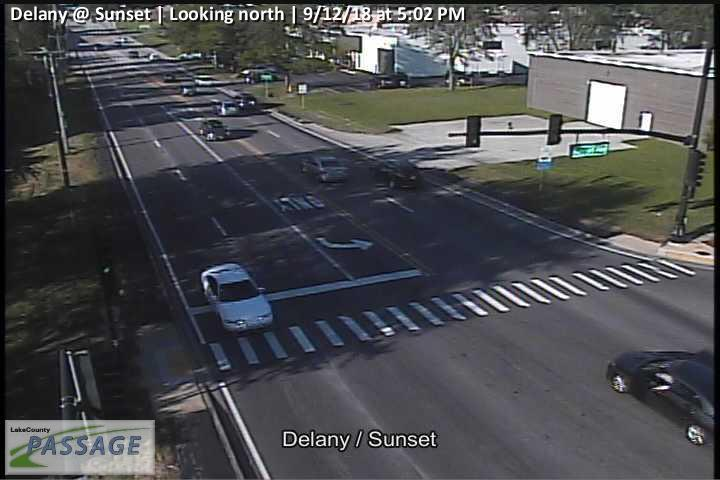Sedan: (608, 350, 720, 445), (201, 263, 272, 332), (369, 159, 423, 190), (300, 154, 350, 183), (200, 120, 231, 142), (192, 74, 216, 94), (212, 100, 240, 117), (233, 92, 257, 109), (175, 82, 193, 95)
